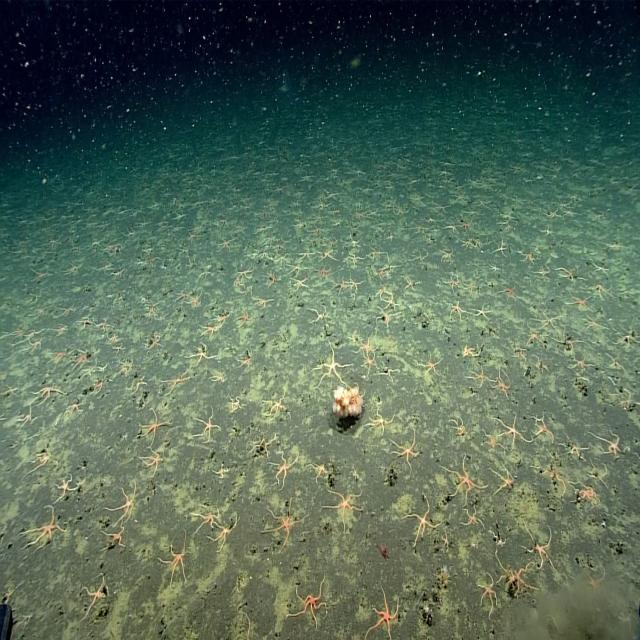brittle-stars: (290, 579, 327, 625), (26, 507, 66, 549), (532, 460, 574, 499), (308, 345, 347, 385), (523, 522, 555, 570), (369, 589, 399, 638), (446, 459, 481, 501), (499, 558, 535, 597), (326, 490, 363, 526), (268, 505, 300, 546), (408, 499, 437, 543), (162, 542, 190, 584), (392, 430, 420, 467), (83, 576, 109, 614), (272, 449, 299, 485), (497, 417, 526, 450), (139, 410, 167, 444), (111, 485, 138, 519), (580, 562, 606, 596), (212, 518, 238, 551), (551, 332, 586, 356), (594, 431, 623, 459), (196, 409, 220, 442), (561, 434, 587, 464), (13, 324, 43, 350), (265, 390, 289, 420), (492, 464, 516, 494), (478, 573, 498, 609), (196, 502, 221, 530), (102, 522, 127, 549), (554, 261, 584, 283), (164, 370, 191, 394), (369, 408, 393, 435), (34, 381, 62, 404), (55, 474, 78, 502), (141, 448, 164, 476), (586, 460, 609, 488), (575, 481, 597, 510), (536, 309, 562, 332), (533, 416, 553, 445), (190, 344, 215, 366), (32, 446, 53, 472), (610, 391, 640, 409), (470, 366, 491, 390), (421, 352, 442, 375), (307, 461, 328, 484), (248, 437, 276, 454), (494, 373, 512, 399), (376, 360, 402, 378), (18, 406, 38, 428), (484, 430, 503, 453), (618, 327, 638, 348), (240, 612, 255, 640), (568, 291, 590, 310), (71, 348, 90, 370), (592, 281, 612, 301), (499, 281, 518, 302), (570, 354, 591, 373), (584, 315, 605, 334), (450, 415, 466, 439), (460, 341, 480, 360), (525, 328, 544, 348), (144, 332, 162, 353), (463, 509, 481, 530), (358, 335, 376, 356), (604, 352, 625, 370), (111, 361, 133, 378), (50, 348, 70, 366), (127, 376, 145, 396), (230, 392, 247, 413), (444, 273, 462, 292), (378, 310, 397, 328), (532, 358, 552, 375), (32, 267, 54, 282), (474, 304, 492, 322), (346, 250, 364, 268), (58, 302, 76, 320), (237, 351, 255, 369), (311, 306, 329, 324), (449, 300, 465, 320), (405, 274, 421, 294), (68, 397, 84, 417), (383, 295, 400, 313), (520, 248, 537, 266), (201, 322, 220, 338), (90, 373, 105, 393), (1, 383, 18, 400), (237, 310, 253, 328), (347, 276, 363, 294), (361, 354, 377, 372), (291, 276, 309, 292), (242, 264, 258, 282), (512, 344, 528, 362), (490, 530, 506, 548), (457, 237, 479, 250), (74, 318, 94, 332), (266, 271, 282, 288), (534, 266, 551, 282), (370, 244, 386, 261), (493, 240, 508, 258), (214, 464, 230, 480), (593, 260, 609, 276), (215, 309, 230, 326), (412, 249, 429, 264), (256, 294, 274, 308), (142, 253, 160, 267), (62, 263, 81, 276), (442, 530, 453, 552), (317, 265, 331, 282), (464, 279, 478, 296), (51, 325, 68, 339), (219, 236, 232, 254), (288, 262, 303, 277), (320, 248, 335, 263), (300, 247, 314, 263), (187, 292, 201, 308), (275, 250, 289, 266), (97, 317, 111, 333), (95, 361, 109, 377), (440, 223, 460, 234), (458, 217, 472, 232), (142, 302, 158, 315), (337, 278, 349, 295), (441, 246, 454, 261), (545, 207, 560, 220), (377, 284, 390, 298), (376, 267, 388, 282), (95, 264, 112, 274), (177, 290, 189, 303), (489, 263, 501, 276), (112, 268, 125, 280), (108, 332, 119, 346), (113, 342, 124, 356), (211, 372, 225, 383), (634, 435, 640, 458), (0, 410, 7, 429), (233, 278, 244, 290)
